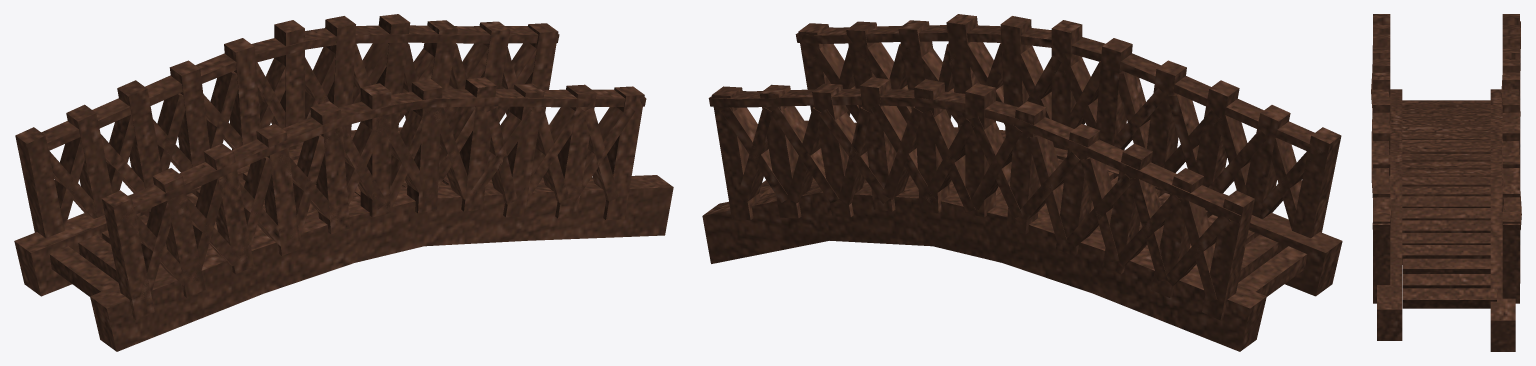
The model's file is Bridge.fbx.
3 renders of one model, left to right at view 1: azimuth 30°, elevation 25°; view 2: azimuth 150°, elevation 25°; view 3: azimuth 270°, elevation 25°, orthographic. The views are drawn at different scales.
Parts seen in each view (by area): view 1: Bridge; view 2: Bridge; view 3: Bridge.
Boxes of the visible parts, x1=… form: Bridge: x1=14, y1=14, x2=673, y2=351; Bridge: x1=702, y1=14, x2=1342, y2=351; Bridge: x1=1371, y1=14, x2=1521, y2=351.
Bounding box in the file's own units: 471 × 188 × 144.
Materials: 1 (1 with a texture image).
